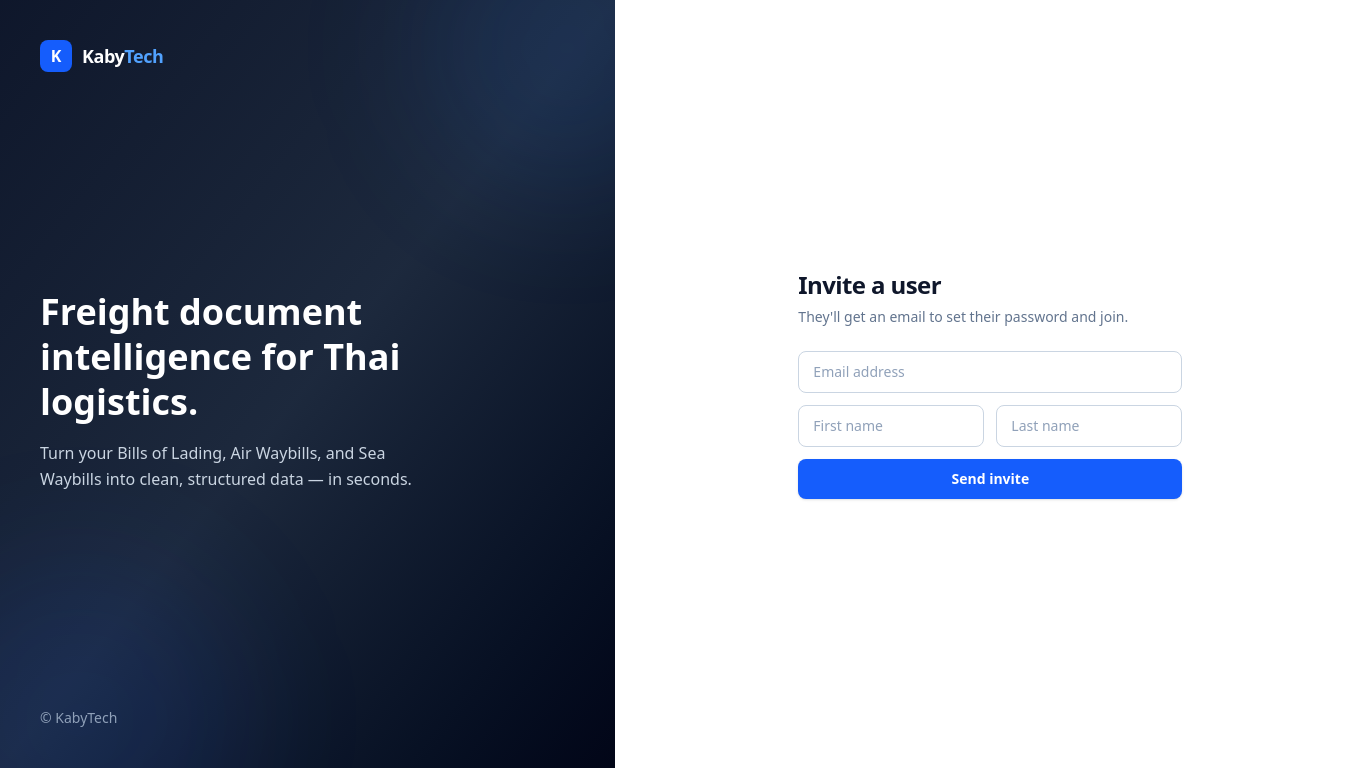
Test case: invite page › posts the email and shows a success state
Type "a@b.c" into the field with placeholder "Email address" at (990, 372), box [798,351,1182,393]
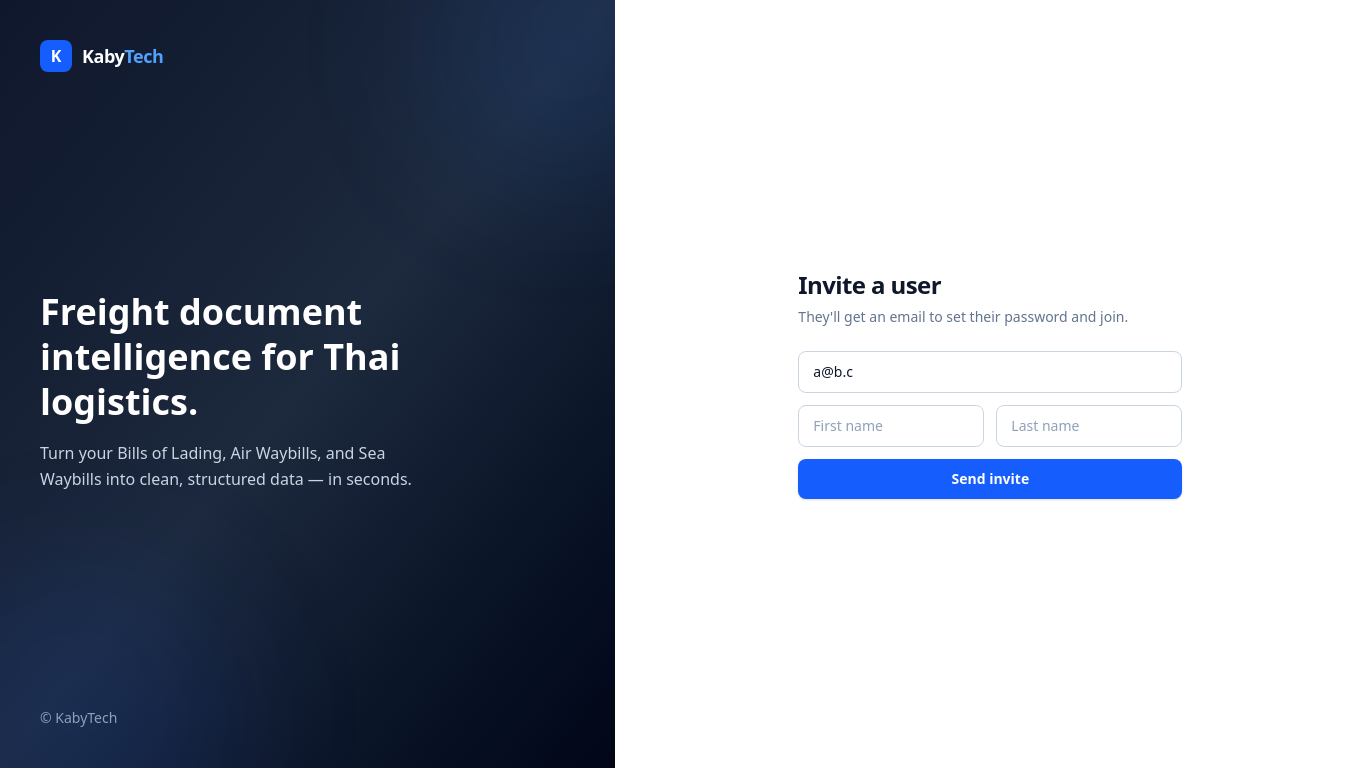
Click the button "Send invite" at (990, 479), box [798,459,1182,499]
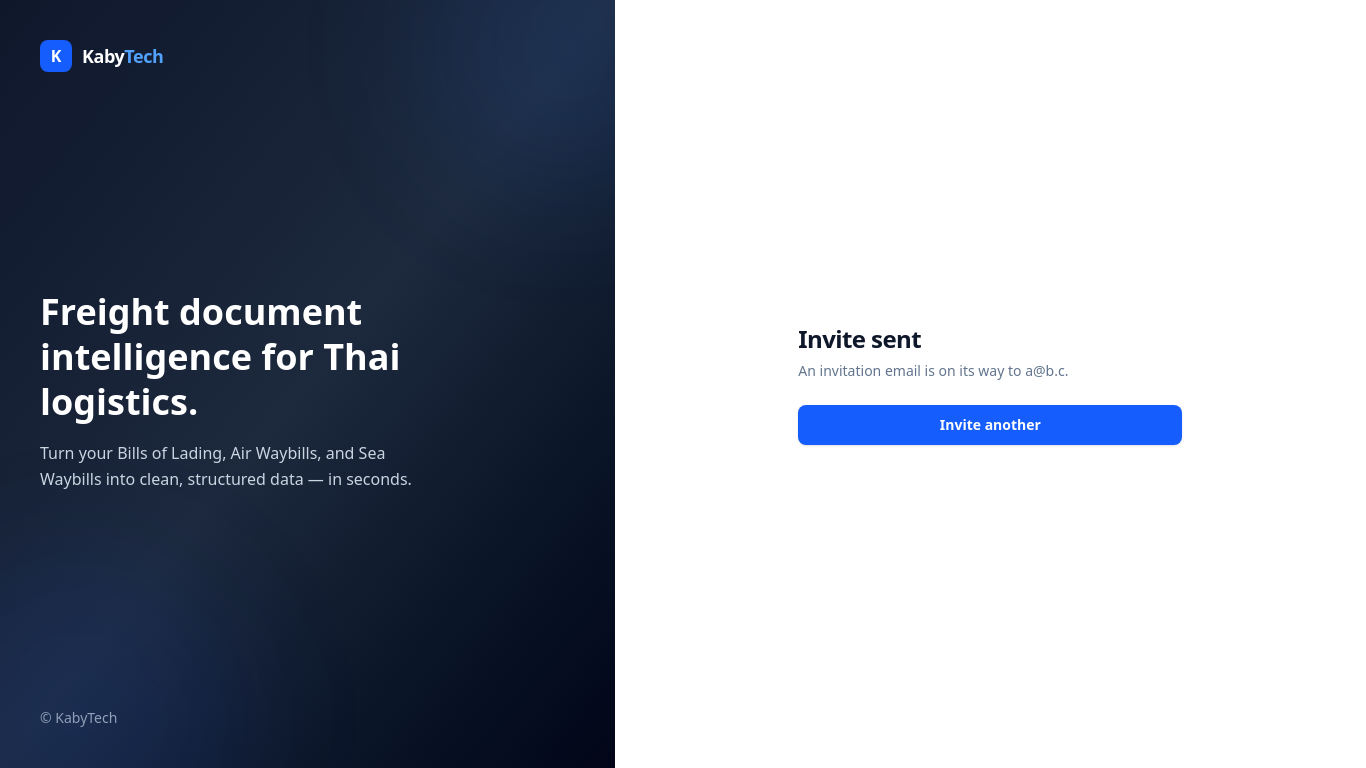
Now the heading "Invite sent" is shown, box [798,322,921,355]
